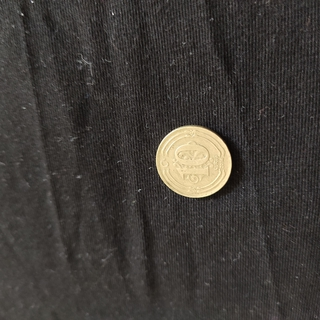10KURUS: (154, 123, 233, 199)
